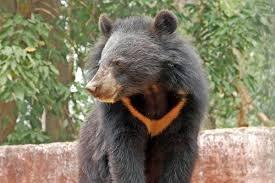bear: (78, 9, 208, 183)
